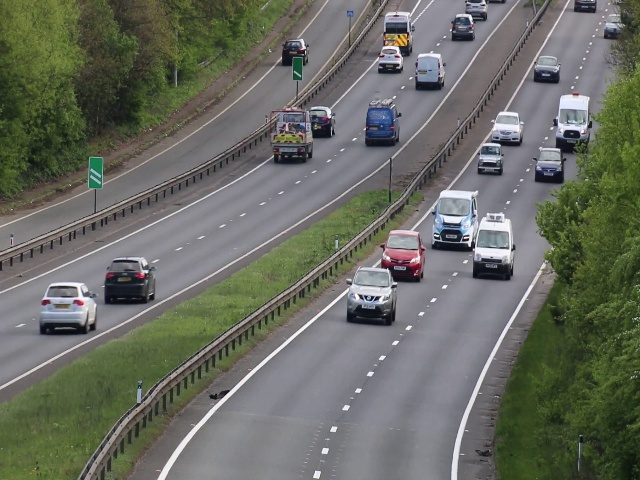car: (38, 278, 99, 334), (103, 254, 159, 305), (345, 265, 395, 322), (267, 108, 316, 162), (434, 188, 477, 249), (381, 227, 424, 282), (474, 217, 513, 273), (361, 102, 402, 146), (555, 100, 587, 150), (378, 12, 415, 52), (413, 48, 446, 92), (533, 150, 564, 184), (306, 104, 338, 136), (493, 108, 522, 141), (280, 35, 311, 65), (533, 52, 560, 82), (451, 10, 475, 43), (477, 145, 503, 175), (379, 46, 404, 72)
